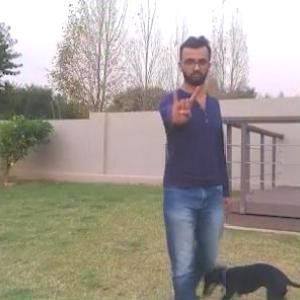takeoff-hand: (162, 76, 202, 130)
